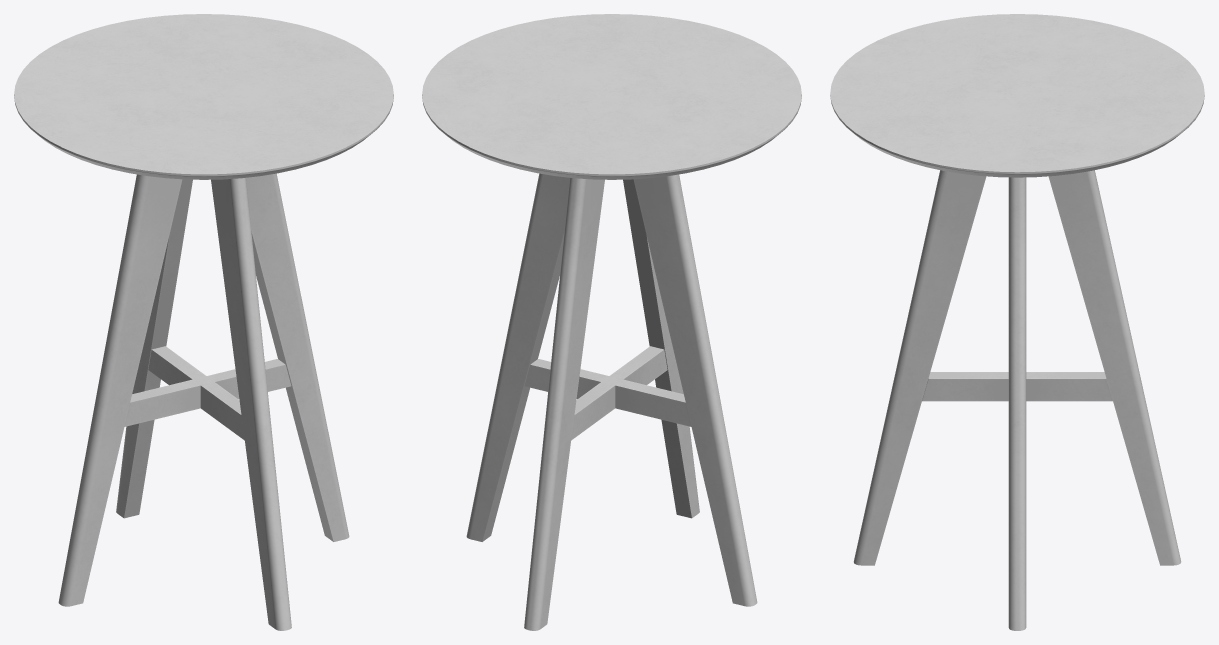
The model's file is round_table.glb.
3 renders of one model, left to right at view 1: azimuth 30°, elevation 25°; view 2: azimuth 150°, elevation 25°; view 3: azimuth 270°, elevation 25°, orthographic.
Visible parts, largest first — view 1: Object_2; view 2: Object_2; view 3: Object_2.
Part boxes in pixels (<box>): Object_2: <box>14,14,393,630</box>; Object_2: <box>422,14,801,630</box>; Object_2: <box>830,14,1204,630</box>.
Size of the model in its own units: 750 by 1036 by 750.
1 material, 1 textured.
